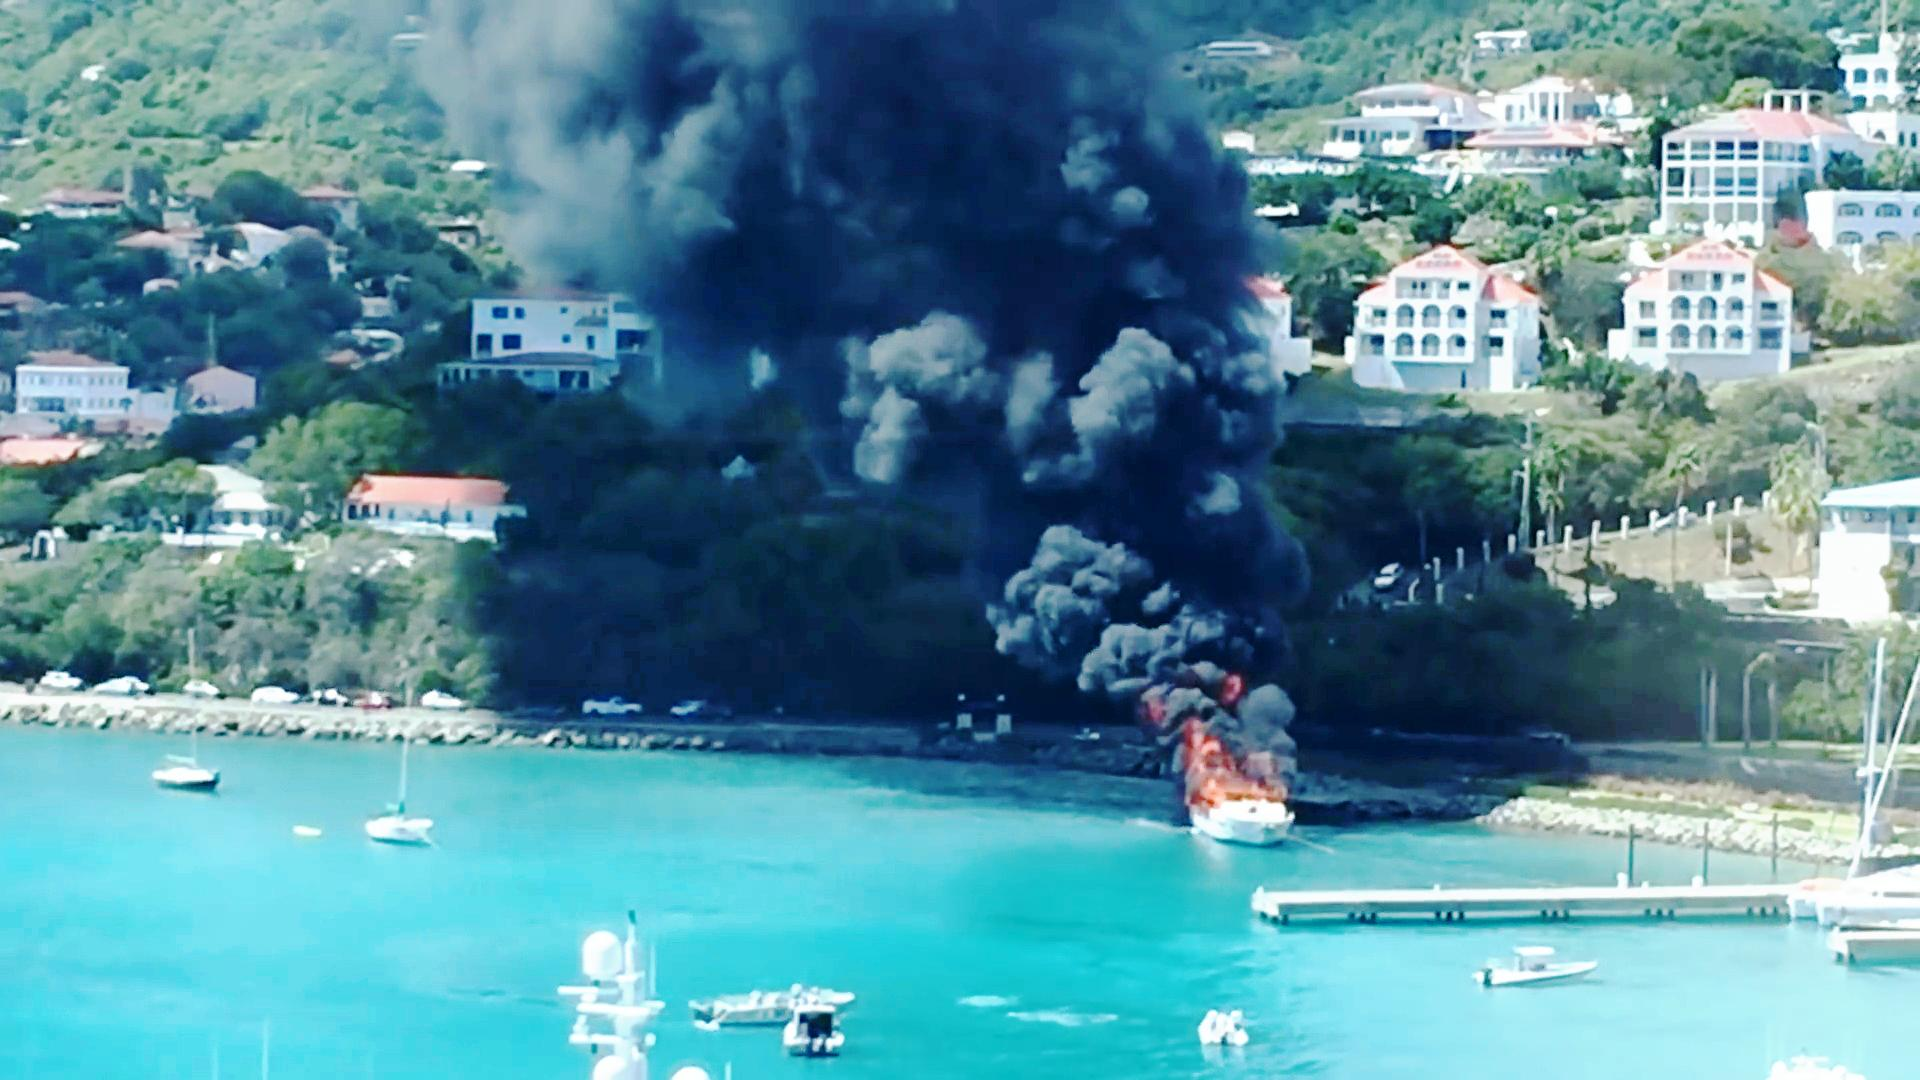smoke: (483, 0, 1131, 278), (881, 303, 1251, 529), (1001, 508, 1249, 712)
